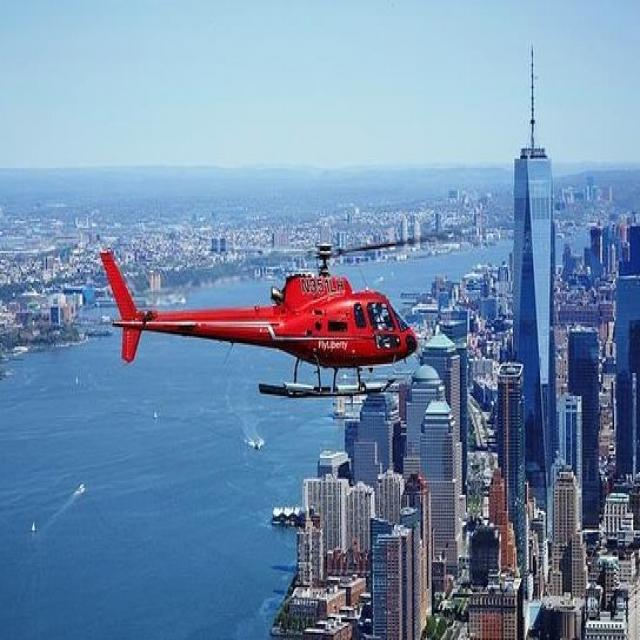helicopter: (96, 178, 426, 401)
